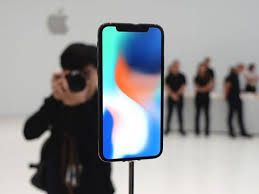iphone: (93, 19, 165, 161)
iphone10: (94, 21, 166, 163)
